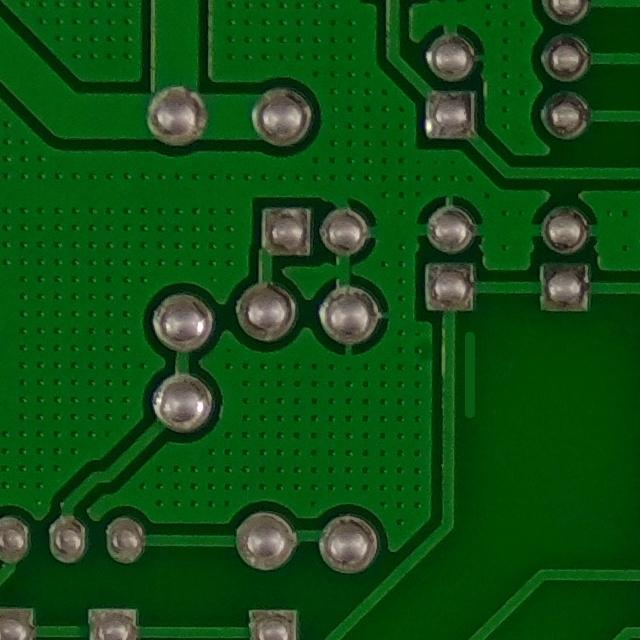spurious_copper: (459, 326, 494, 422)
